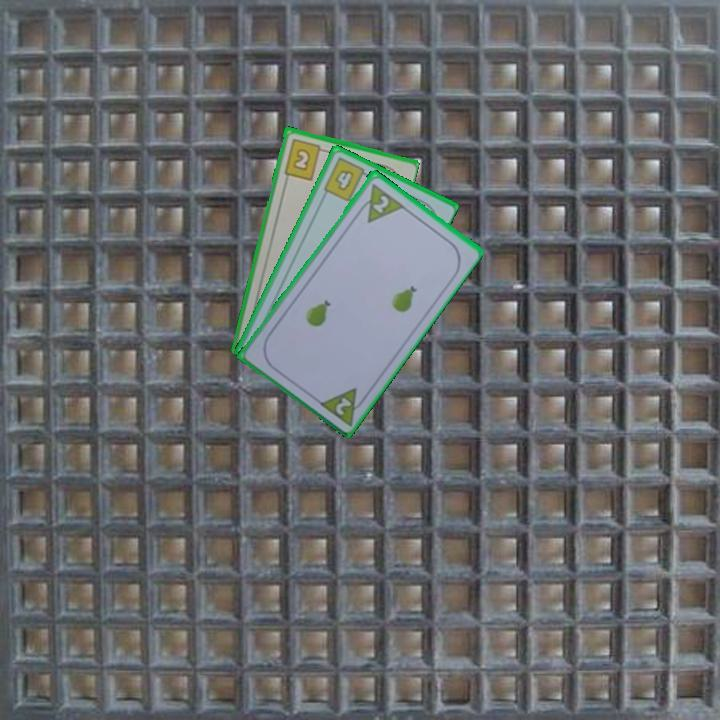2b: (280, 135, 329, 182)
2p: (315, 383, 371, 428), (353, 179, 406, 226)
4b: (320, 154, 373, 205)
